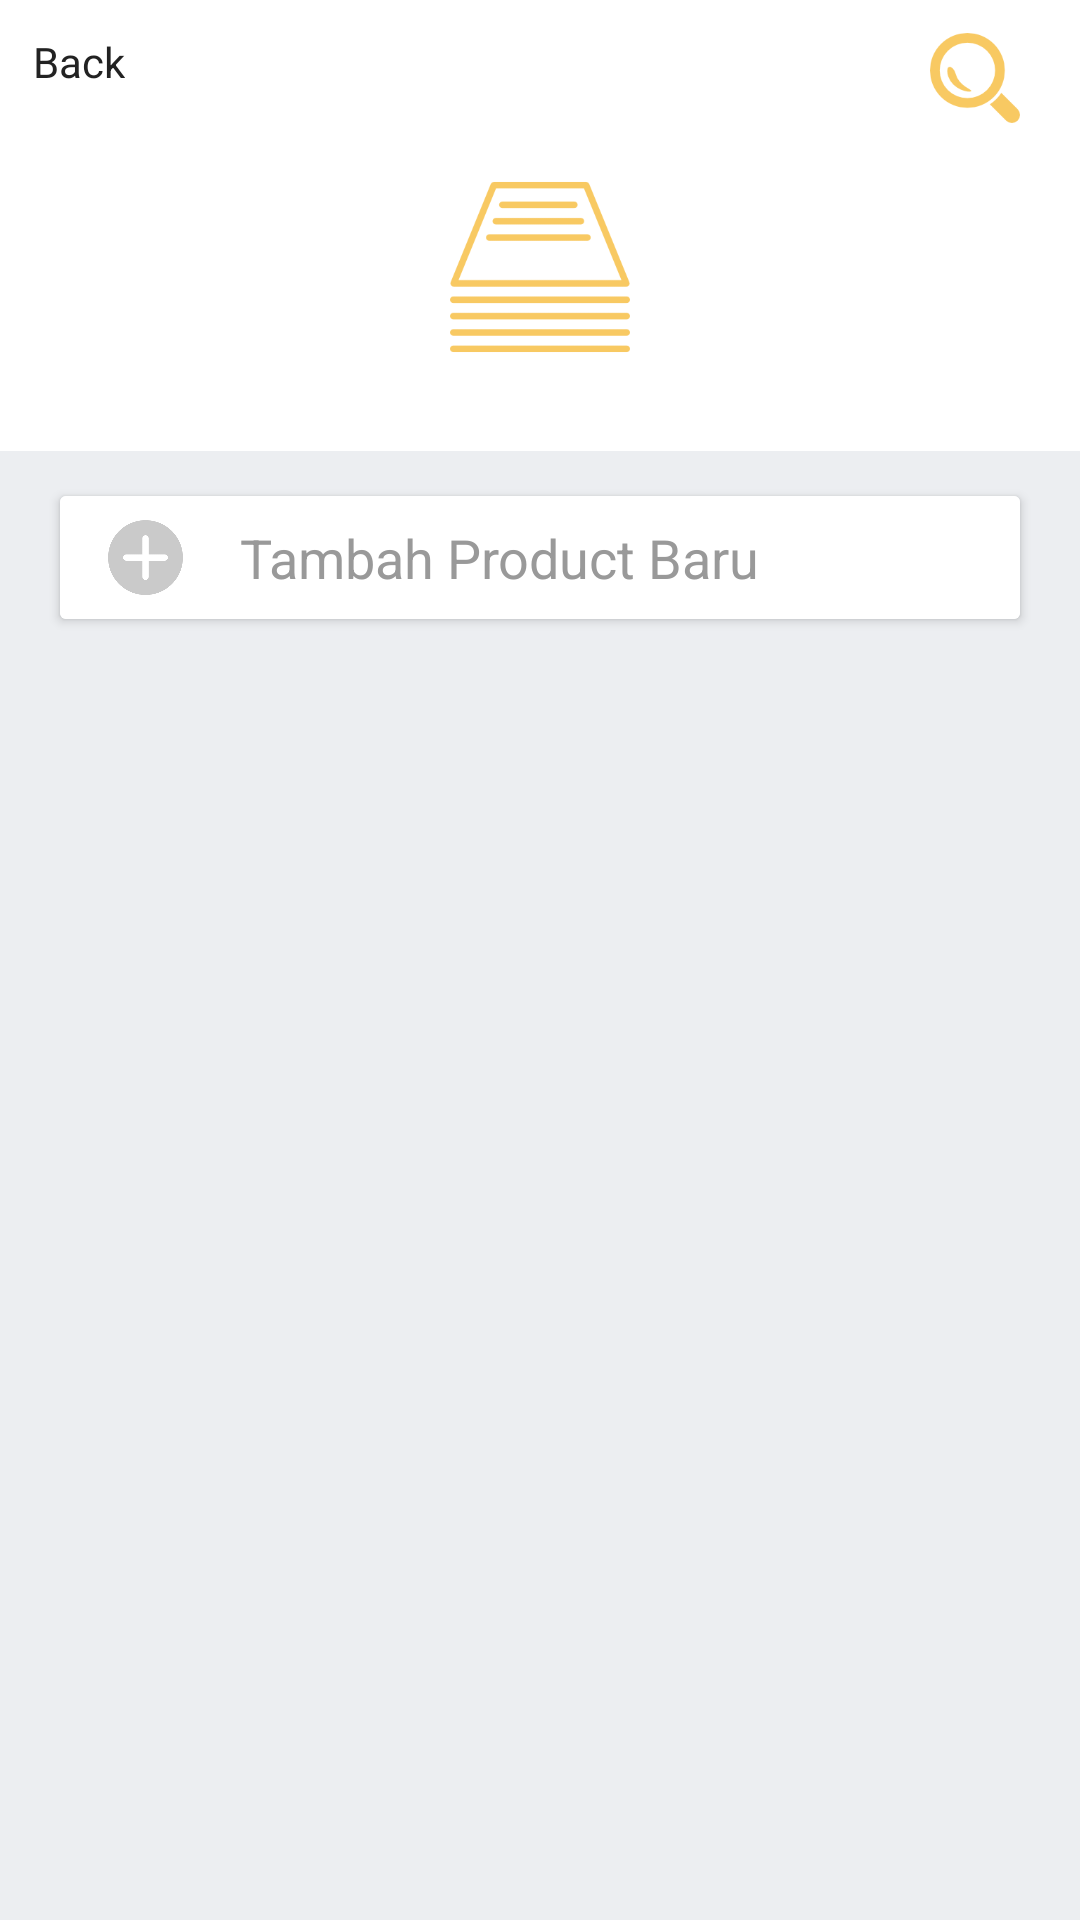

Locate icon controls on the screen. Image size 1080×1920, boxes as detection(x1, y1, x2, y2).
btnplus: detection(108, 520, 183, 595)
search: detection(930, 33, 1020, 123)
